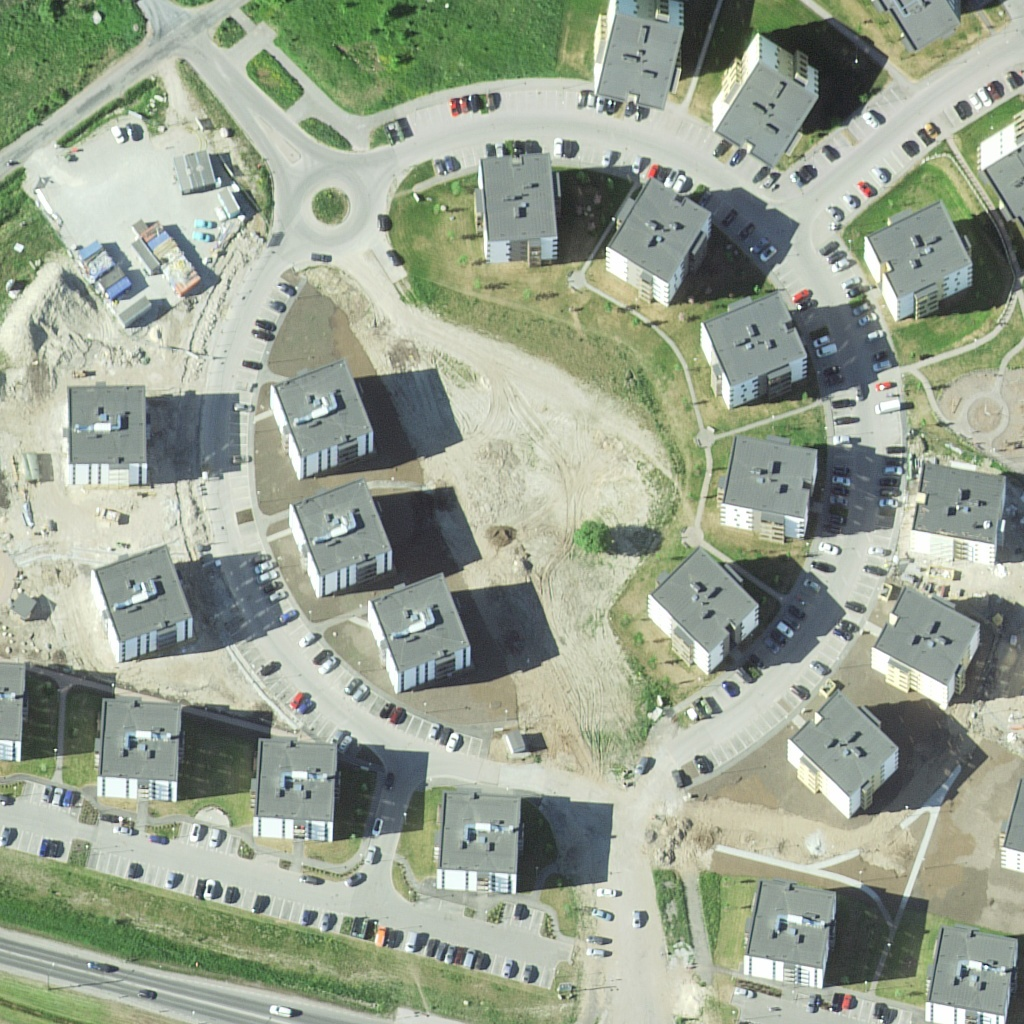building: (789, 689, 902, 826), (647, 548, 765, 676), (871, 584, 981, 718), (271, 351, 376, 484), (717, 33, 820, 168), (287, 470, 392, 601), (367, 570, 472, 701), (737, 876, 848, 998), (857, 203, 974, 318), (91, 543, 200, 665), (698, 295, 811, 412), (607, 181, 708, 308), (718, 433, 824, 548), (428, 784, 535, 896), (249, 731, 348, 849), (904, 457, 1010, 565), (54, 381, 155, 492), (476, 148, 568, 268), (592, 1, 688, 112), (94, 692, 183, 803), (925, 926, 1017, 1024), (976, 110, 1024, 225), (889, 1, 974, 53)
